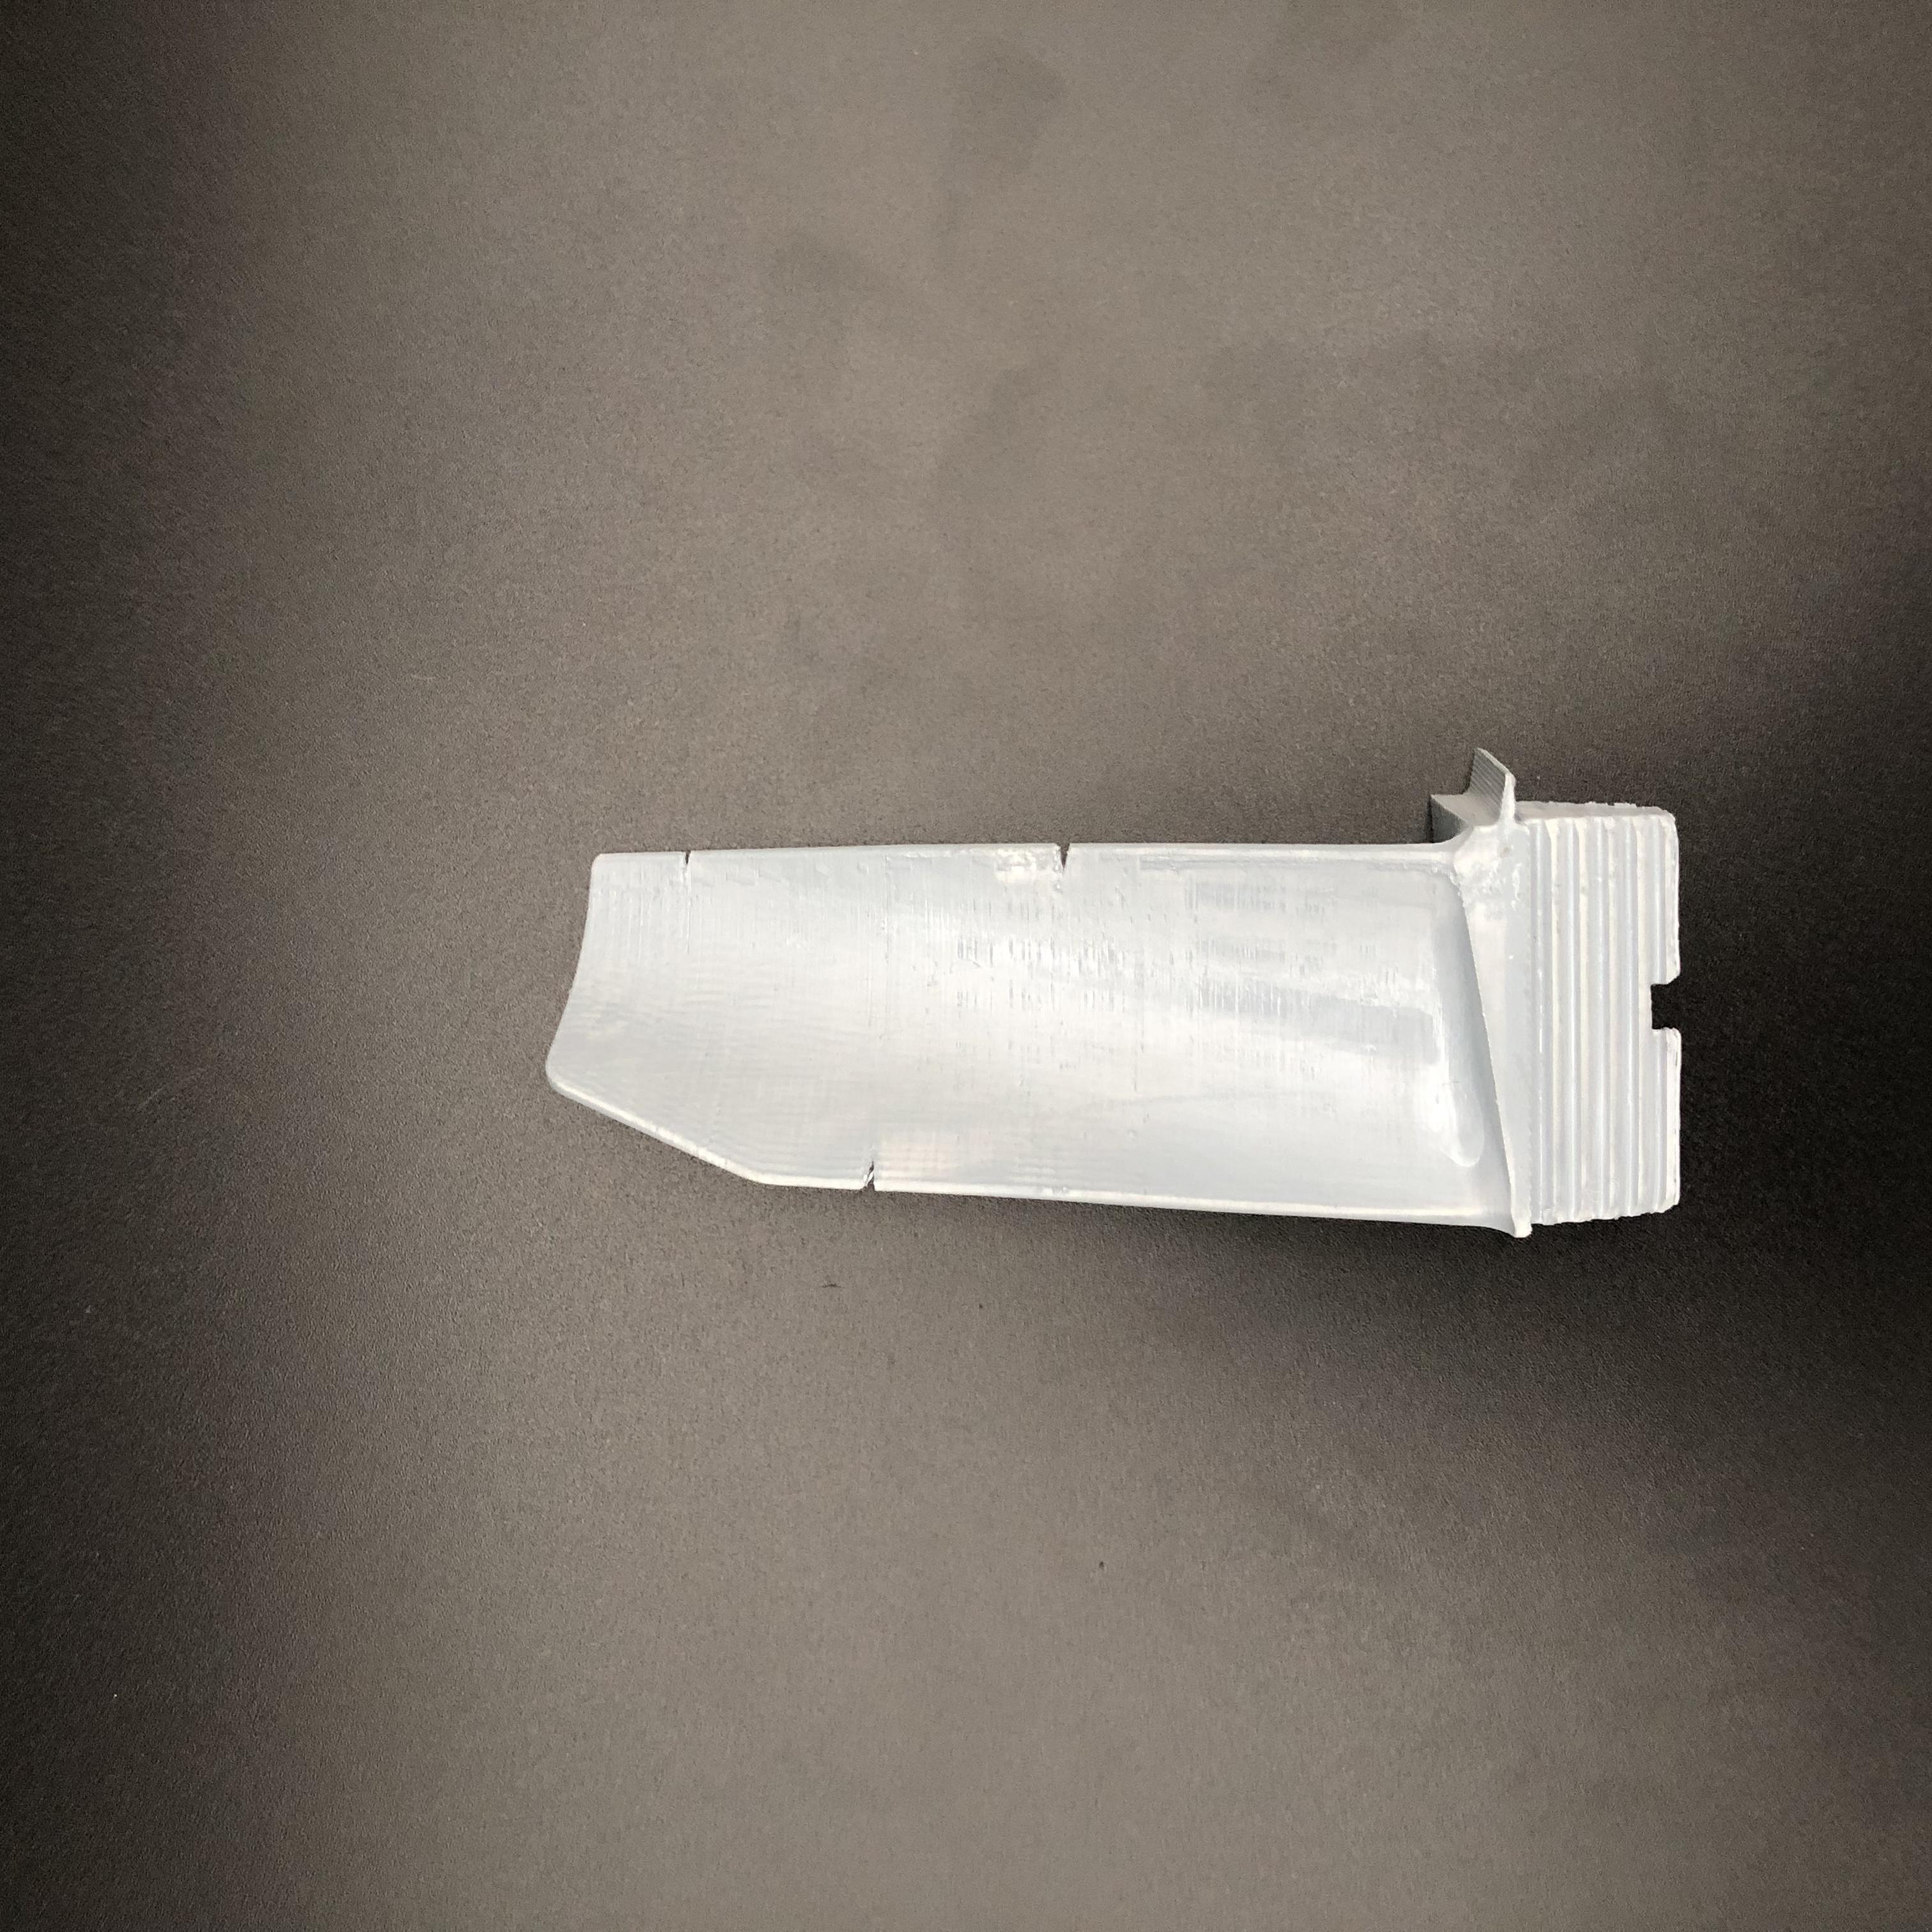groove: (1047, 844, 1088, 879), (858, 1161, 890, 1191), (678, 853, 709, 869)
